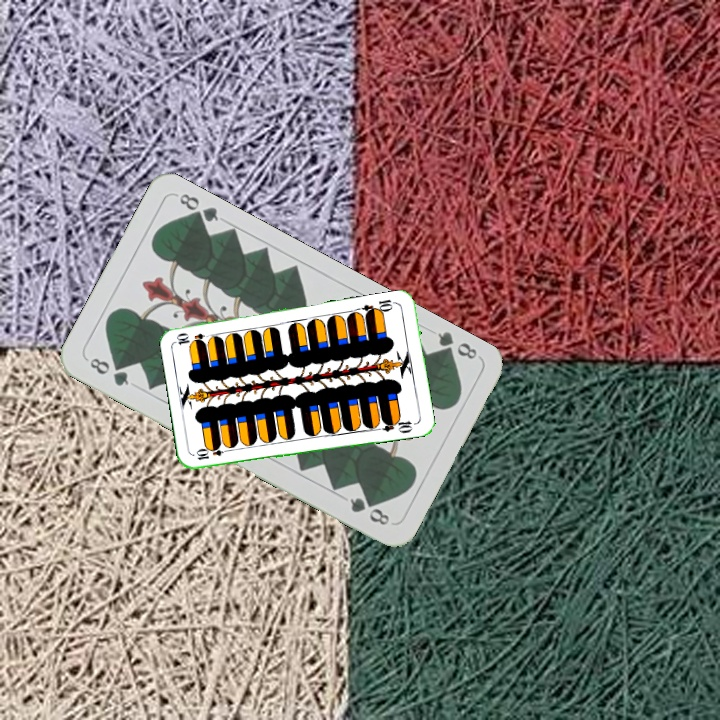E10: (360, 295, 400, 318), (192, 442, 232, 462)
G8: (83, 353, 132, 389), (433, 327, 480, 363)
